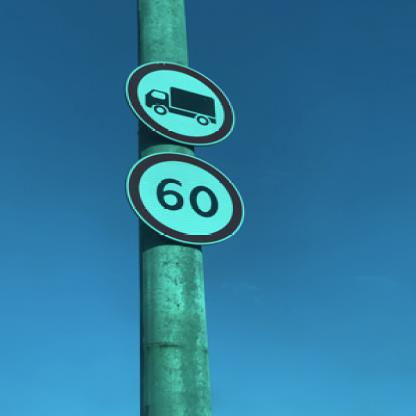speedlimit: (126, 152, 243, 243)
